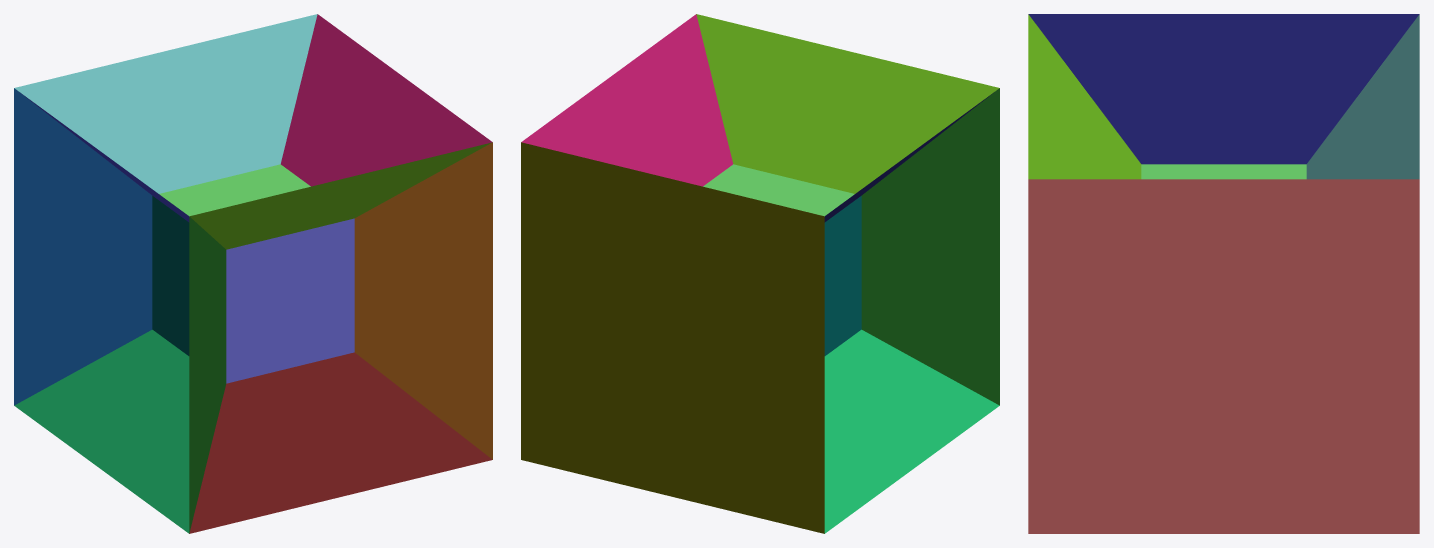
The model's file is zeometry-sculptural-hollow-cube_v1.fbx.
3 views of the same model, side by side, from view 1: azimuth 30°, elevation 25°; view 2: azimuth 150°, elevation 25°; view 3: azimuth 270°, elevation 25° (orthographic). The views are drawn at different scales.
Parts seen in each view (by area): view 1: Hollow Cube_v1; view 2: Hollow Cube_v1; view 3: Hollow Cube_v1.
Boxes of the visible parts, left/top/right/bottom form: Hollow Cube_v1: left=14, top=14, right=492, bottom=533; Hollow Cube_v1: left=521, top=14, right=999, bottom=533; Hollow Cube_v1: left=1028, top=14, right=1419, bottom=533.
Bounding box in the file's own units: 0.5 × 0.5 × 0.5.
